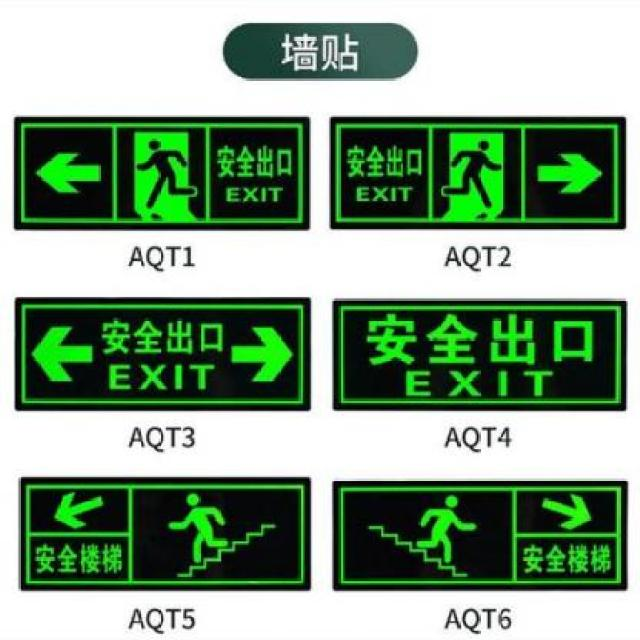exit_sign: (9, 291, 320, 426), (334, 468, 630, 602), (12, 463, 311, 595), (323, 106, 624, 236), (329, 290, 628, 416), (16, 109, 306, 231)
